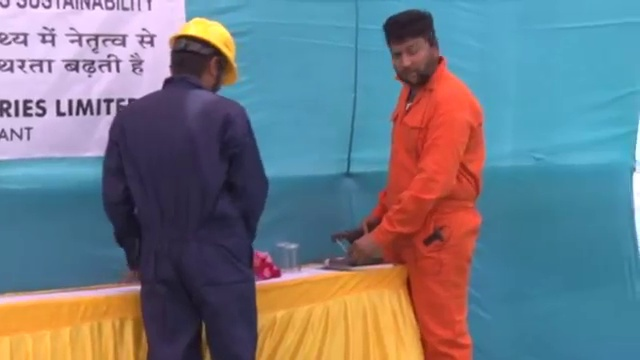helmet: (168, 15, 241, 86)
helmet_off: (382, 10, 443, 85)
helmet_on: (163, 17, 239, 97)
person: (100, 16, 269, 360), (341, 11, 485, 360)
